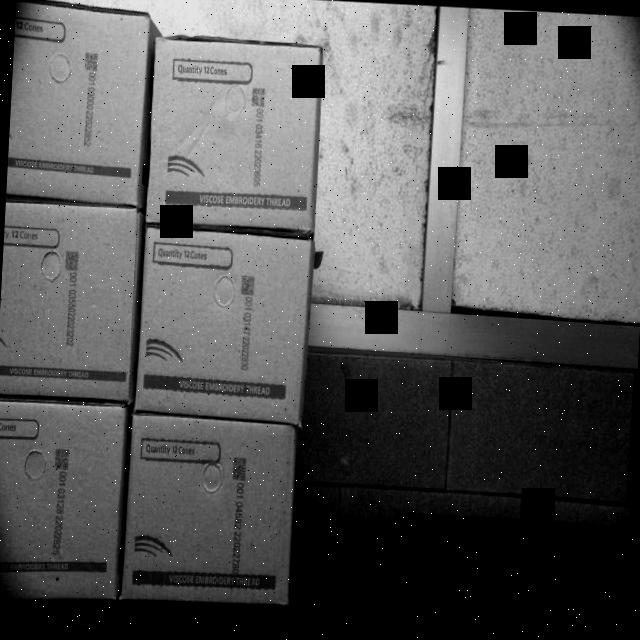box: (146, 35, 325, 232), (136, 229, 312, 421), (125, 416, 300, 606), (6, 0, 148, 204), (0, 205, 137, 399), (0, 400, 127, 600)
